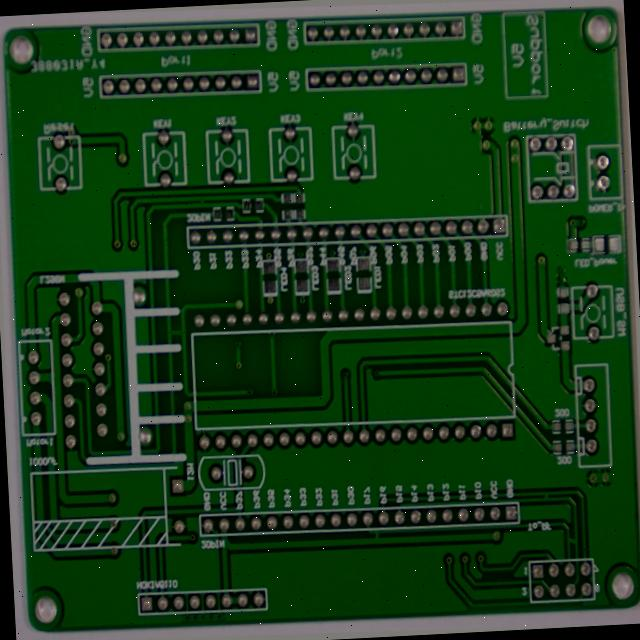short: (164, 323, 186, 351), (571, 530, 589, 549), (190, 193, 207, 212), (545, 485, 559, 505)
